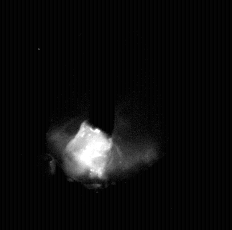arame: (87, 0, 115, 137)
poca: (47, 0, 159, 230)
